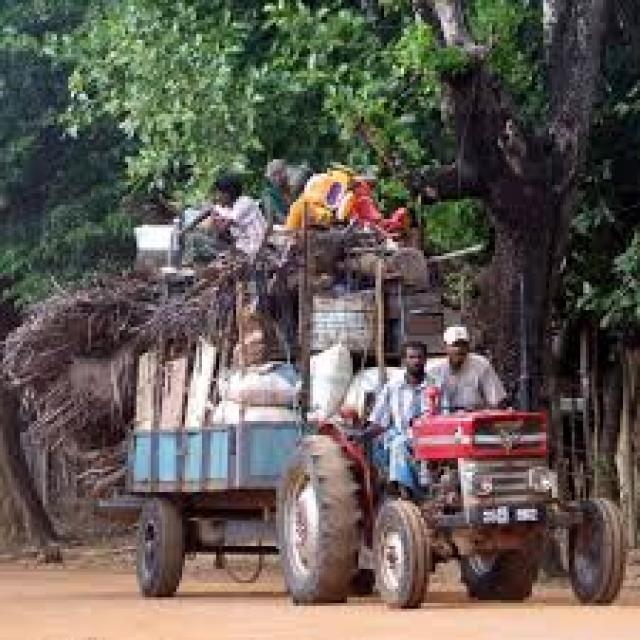person: (364, 344, 430, 486), (430, 324, 503, 410), (210, 174, 265, 262)
tractor: (131, 410, 623, 609)
